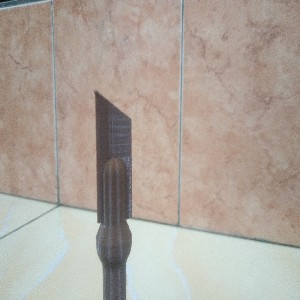cutter: (92, 89, 133, 300)
